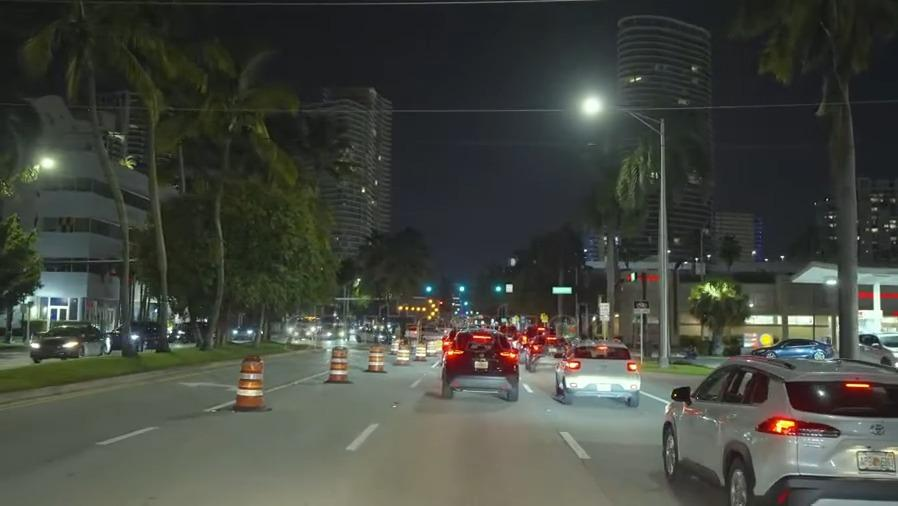arrow traffic sign: (401, 298, 439, 321)
car: (657, 352, 898, 506), (555, 339, 643, 407), (441, 328, 520, 403), (27, 323, 111, 360), (749, 335, 838, 362), (105, 320, 165, 349), (859, 327, 898, 369), (528, 334, 565, 375)
cone: (237, 354, 266, 411), (327, 344, 349, 380), (365, 343, 383, 374), (394, 341, 408, 364), (413, 340, 427, 361)
wheel: (721, 447, 751, 505), (660, 423, 683, 479)
